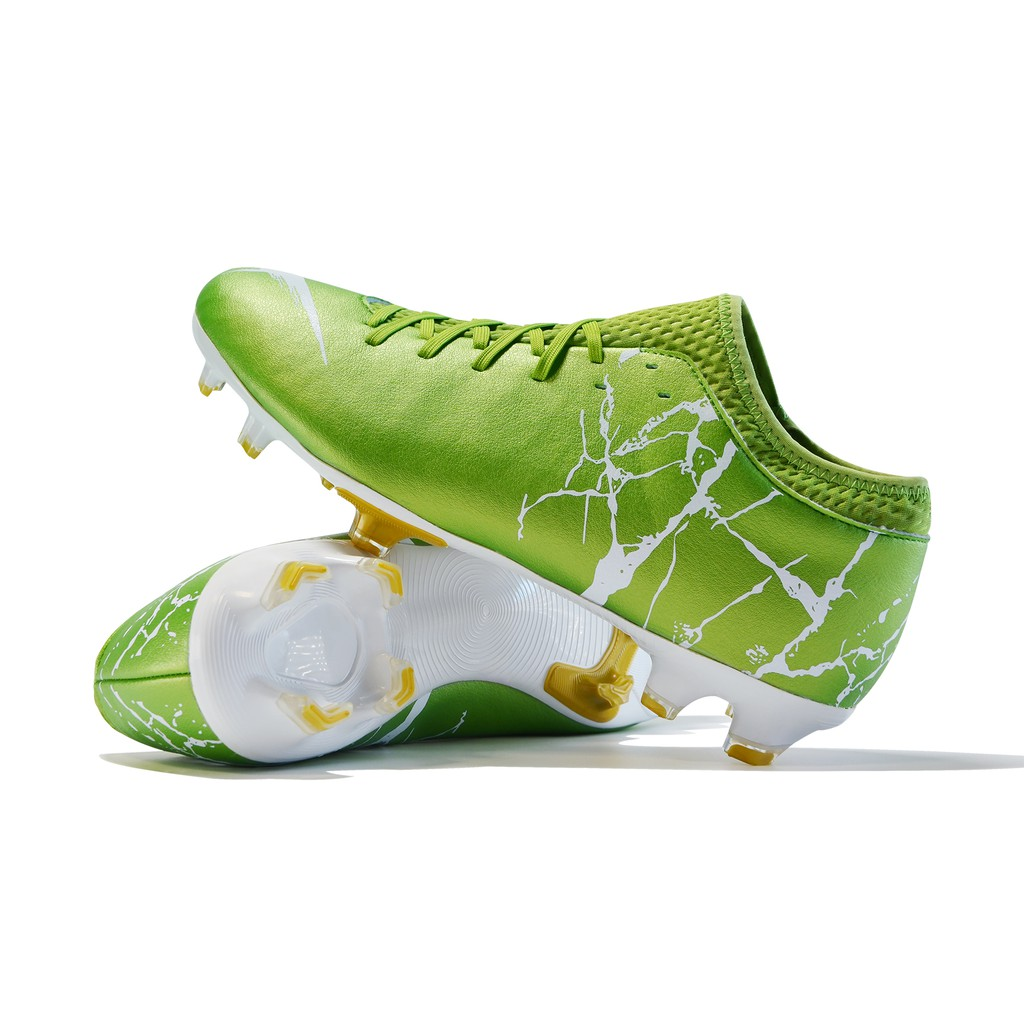soccer shoes: (190, 258, 933, 768), (91, 528, 659, 767)
